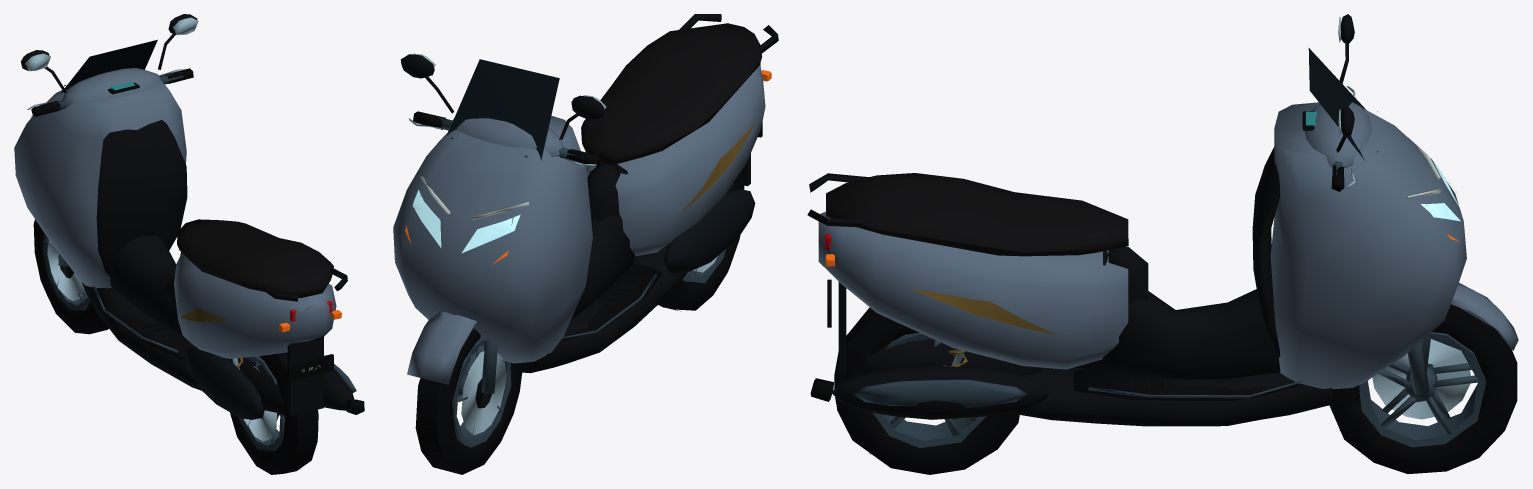
The model's file is maxi_scooter_slate_lod1.glb.
3 renders of one model, left to right at view 1: azimuth 30°, elevation 25°; view 2: azimuth 150°, elevation 25°; view 3: azimuth 270°, elevation 25°, orthographic. The views are drawn at different scales.
Visible parts, largest first — view 1: Body_Mesh, Wheel_Rear_Mesh, Steering_Pivot_Mesh, Wheel_Front_Mesh; view 2: Body_Mesh, Wheel_Front_Mesh, Steering_Pivot_Mesh, Wheel_Rear_Mesh, Headlights_Mesh; view 3: Body_Mesh, Wheel_Front_Mesh, Wheel_Rear_Mesh, Steering_Pivot_Mesh, Headlights_Mesh.
Boxes of the visible parts, <box> form: Body_Mesh: <box>14,39,364,419</box>; Wheel_Rear_Mesh: <box>230,352,318,474</box>; Steering_Pivot_Mesh: <box>21,14,198,266</box>; Wheel_Front_Mesh: <box>33,219,108,334</box>; Body_Mesh: <box>393,14,778,373</box>; Wheel_Front_Mesh: <box>415,328,522,474</box>; Steering_Pivot_Mesh: <box>400,53,606,393</box>; Wheel_Rear_Mesh: <box>658,171,744,311</box>; Headlights_Mesh: <box>412,176,529,252</box>; Body_Mesh: <box>807,48,1466,426</box>; Wheel_Front_Mesh: <box>1329,304,1517,473</box>; Wheel_Rear_Mesh: <box>834,307,1019,474</box>; Steering_Pivot_Mesh: <box>1302,14,1518,395</box>; Headlights_Mesh: <box>1406,137,1460,221</box>.
Size of the model in its own units: 0.7179 by 1.23 by 1.95.
Materials: 2 (1 with a texture image).
